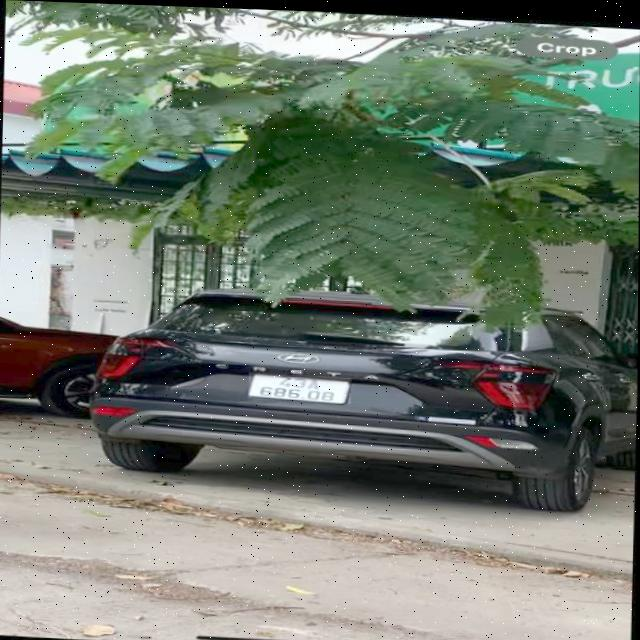car: (67, 281, 638, 514)
plate: (242, 368, 356, 414)
